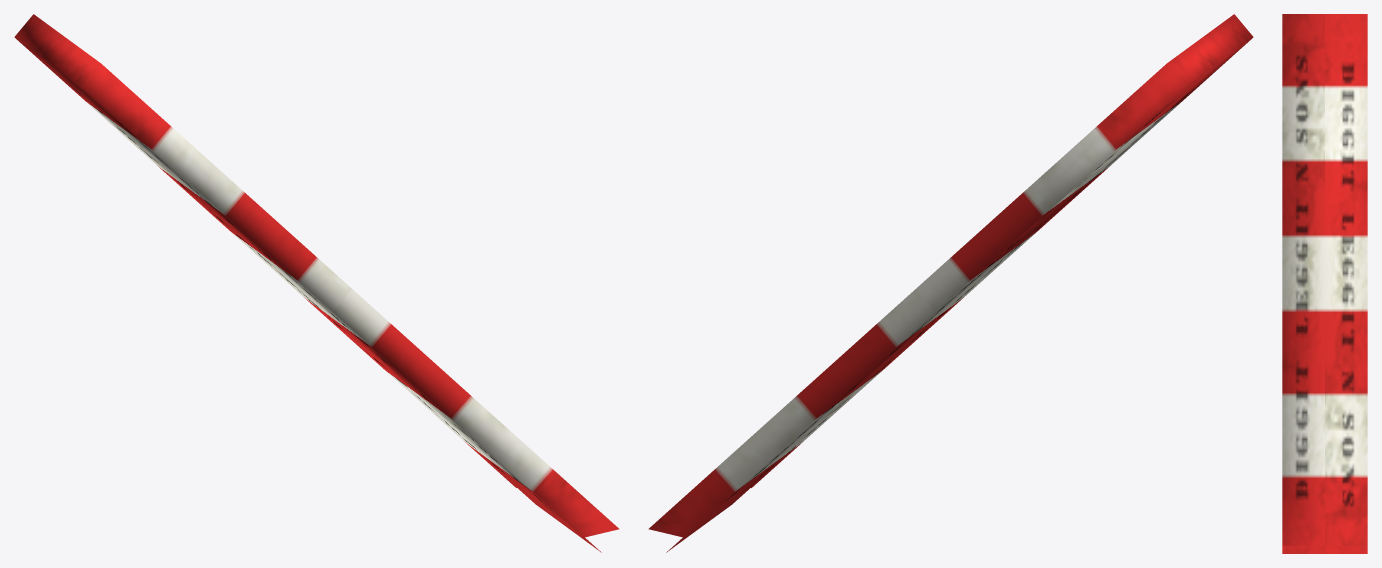
The model's file is bljramp.fbx.
The picture shows the model from 3 angles, left to right: view 1: azimuth 30°, elevation 25°; view 2: azimuth 150°, elevation 25°; view 3: azimuth 270°, elevation 25°; orthographic projection. The views are drawn at different scales.
Parts seen in each view (by area): view 1: Cone; view 2: Cone; view 3: Cone.
Boxes of the visible parts, x1,y1,x2,y2 form: Cone: [14, 14, 619, 552]; Cone: [648, 14, 1253, 552]; Cone: [1282, 14, 1367, 553].
Size of the model in its own units: 612 by 666 by 133.
